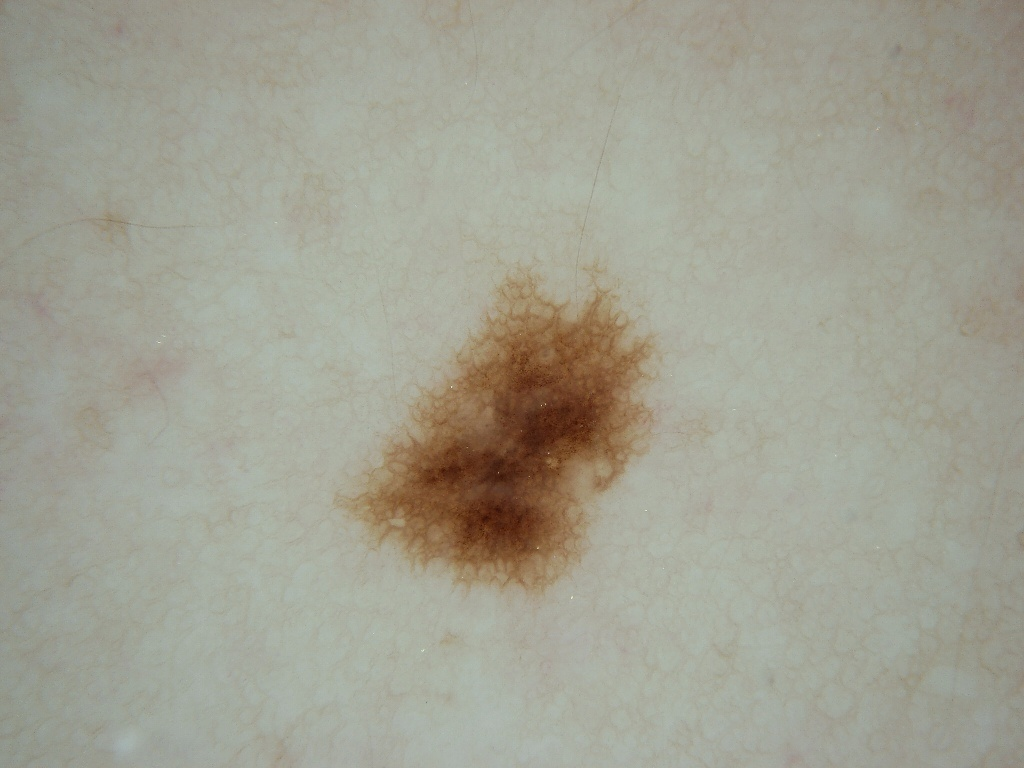Detected Lesion: (328, 256, 665, 604)
